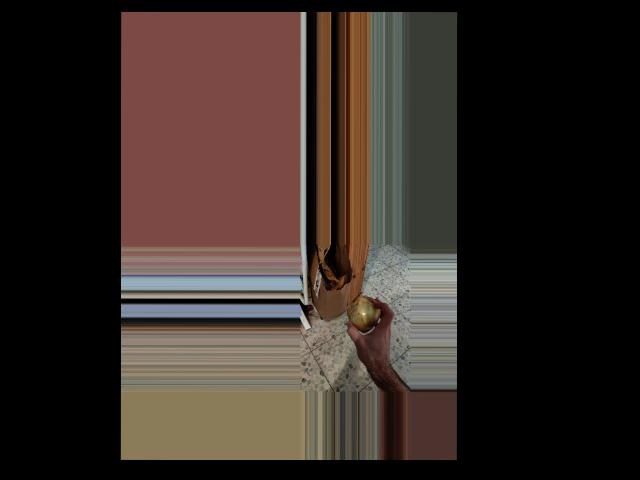onion: (347, 289, 382, 334)
